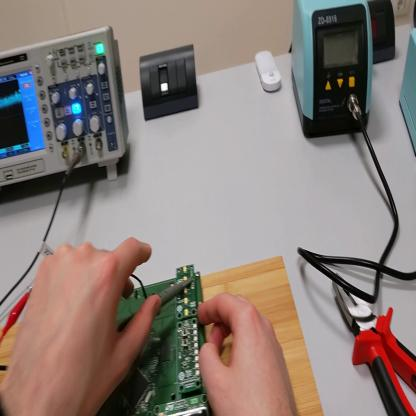hand: (2, 235, 161, 416), (196, 293, 295, 415)
low voltage board: (99, 259, 218, 415)
oscilloscope: (2, 30, 130, 195)
oscilloscope probe tip: (123, 276, 190, 330)
pliers: (334, 280, 416, 415)
socket: (369, 1, 399, 69)
welder base: (399, 28, 416, 156)
welder station: (292, 4, 373, 140)
working area: (3, 256, 324, 415)
